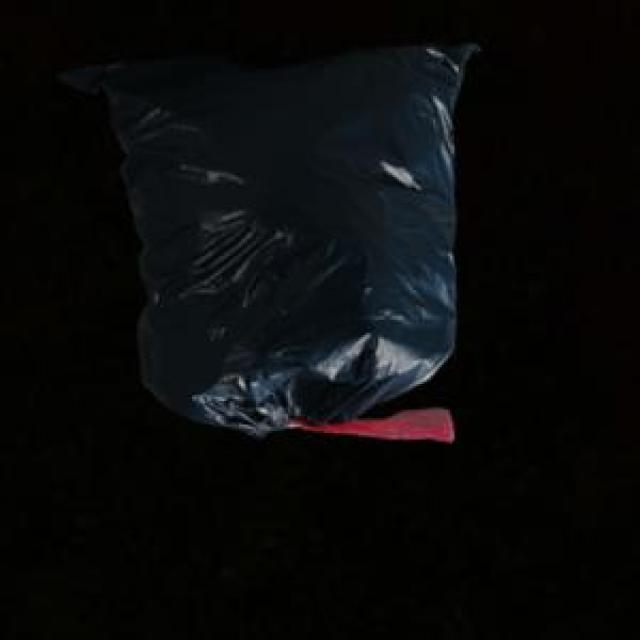waste: (68, 45, 476, 436)
